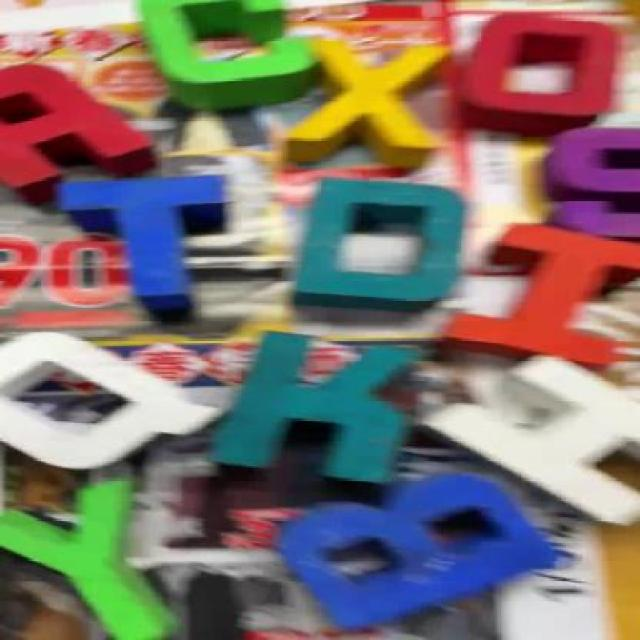D: (291, 178, 464, 300)
H: (438, 355, 639, 519)
I: (454, 226, 638, 366)
K: (229, 333, 420, 489)
O: (470, 17, 616, 131)
Q: (0, 331, 211, 472)
T: (62, 175, 248, 314)
X: (310, 38, 448, 173)
Y: (0, 481, 177, 640)
